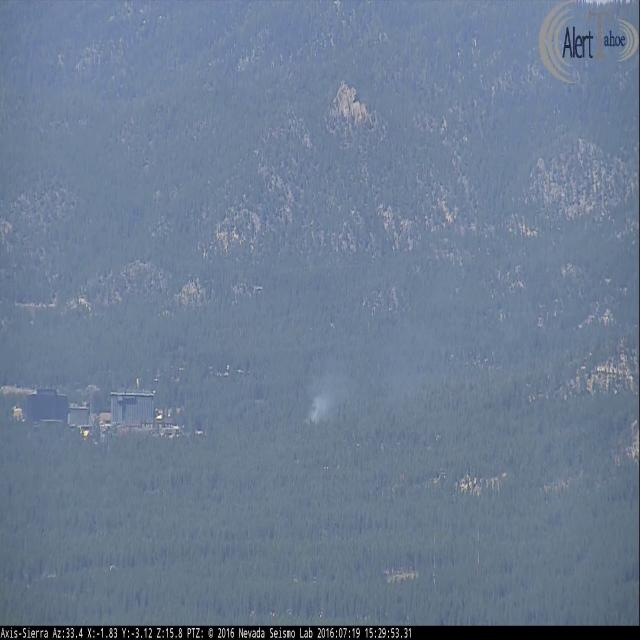smoke: (303, 316, 460, 427)
